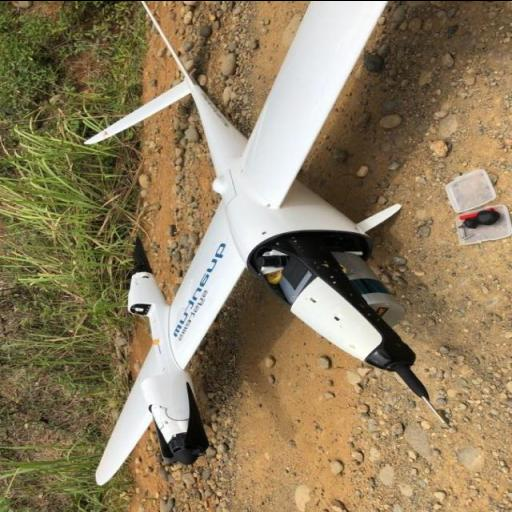uav: (80, 0, 474, 512)
